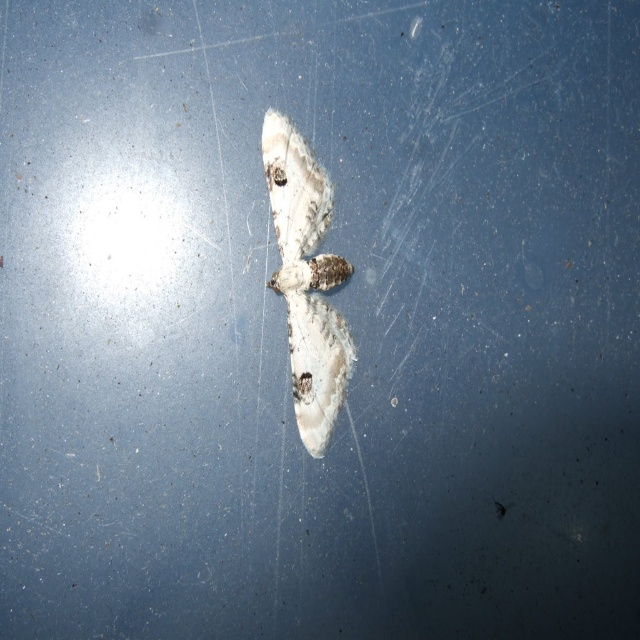Moths and butterflies: (264, 102, 360, 463)
